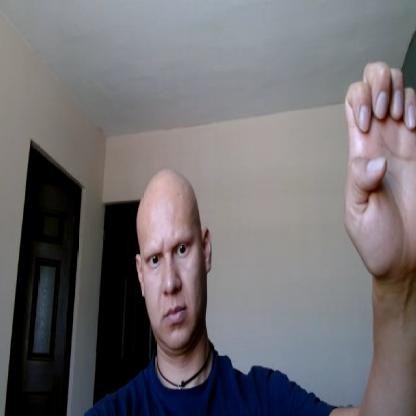E: (344, 59, 415, 275)
